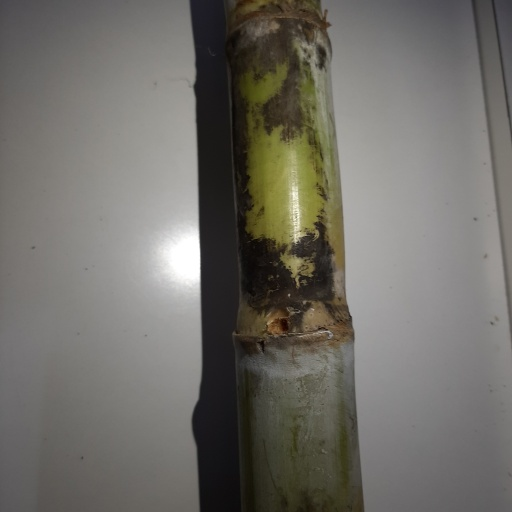Damage_Bud: (263, 311, 290, 338)
